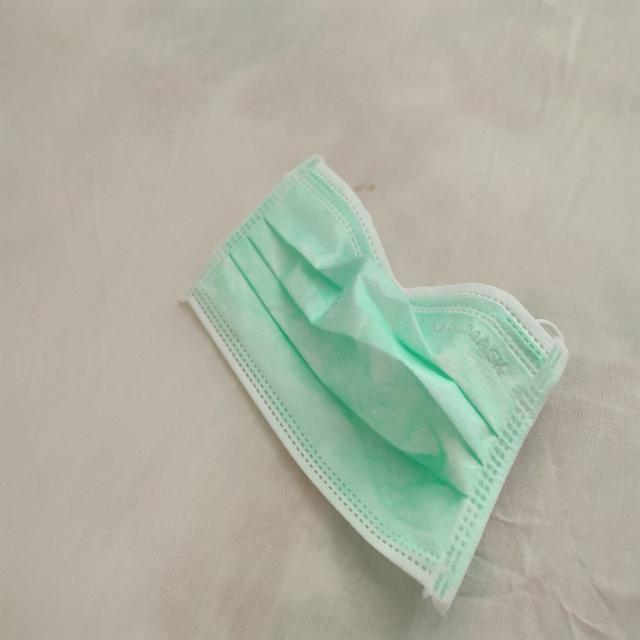non-organic waste: (185, 150, 548, 588)
